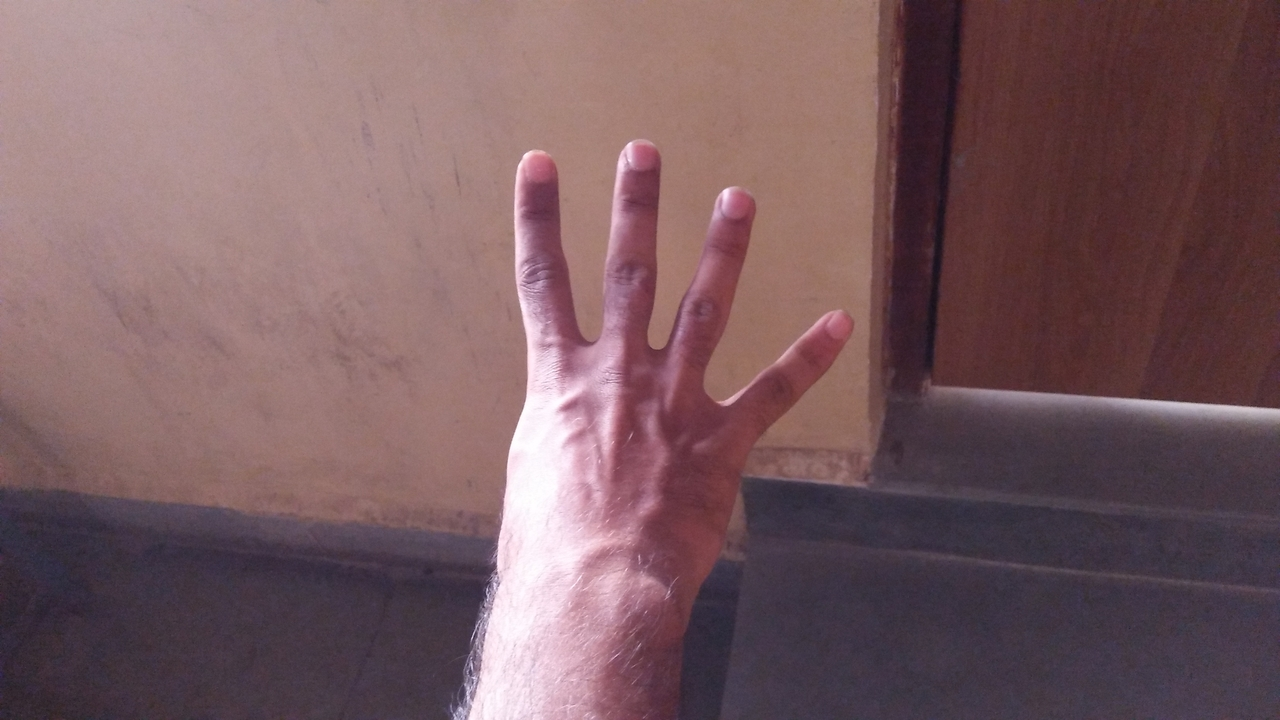fingertip: (702, 176, 762, 234), (800, 300, 862, 350), (606, 134, 664, 184), (510, 144, 562, 196)
